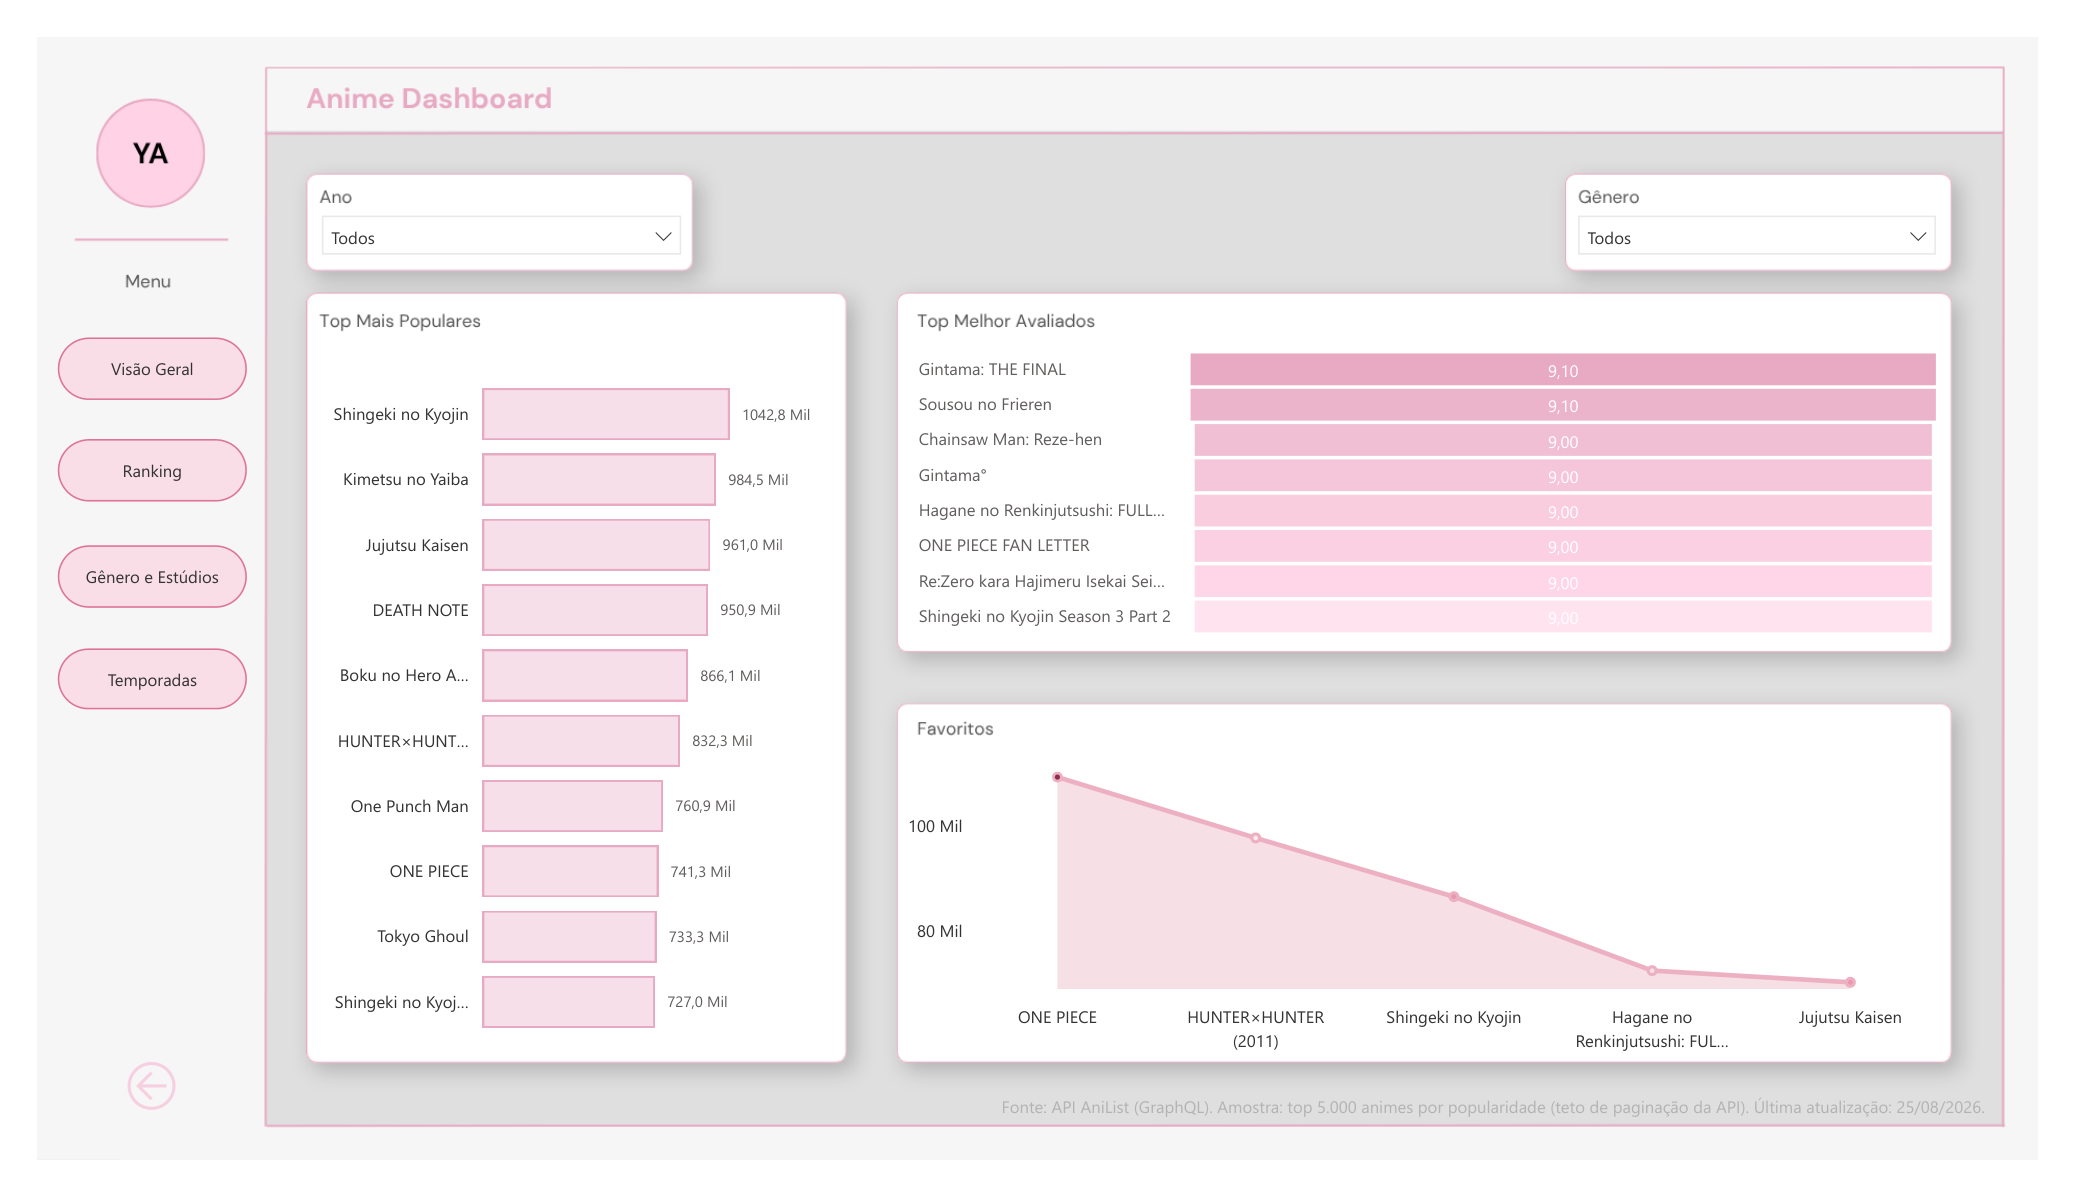

The dashboard page shown, as its layout file describes it:
{"tool":"powerbi","page":{"name":"Ranking","canvas":[1280,720],"ordinal":1},"visuals":[{"type":"slicer","title":"Ano","fields":{"Values":["dim_anime.ano_texto"]},"box":[171.9,103.7,249.9,34.8],"z":0},{"type":"slicer","fields":{"Values":["dim_genero.nome_genero_pt"]},"box":[975.8,103.7,249.2,45.9],"z":1000},{"type":"barChart","fields":{"Category":["dim_anime.titulo"],"Y":["Medidas.Total de Membros"]},"box":[172.2,194.5,344.4,461.7],"z":2000},{"type":"funnel","fields":{"Category":["dim_anime.titulo"],"Y":["Medidas.Nota Media Confiavel"]},"box":[558.7,194.5,666.5,193.2],"z":3000},{"type":"areaChart","fields":{"Category":["dim_anime.titulo"],"Y":["Medidas.Total de Favoritos"]},"box":[551.7,456,673.5,200.9],"z":4000},{"type":"shape","box":[12.8,192,121.2,39.5],"z":5000},{"type":"shape","box":[12.8,257,121.2,39.5],"z":6000},{"type":"shape","box":[12.8,325.3,121.2,39.5],"z":7000},{"type":"shape","box":[12.8,391,121.2,39.5],"z":8000},{"type":"textbox","box":[612.1,671.4,644.2,26.5],"z":9000},{"type":"actionButton","box":[51.9,648.6,42.1,44.5],"z":10000}]}

Visuals, with their boxes on the page's 1280x720 design canvas (x1, y1, x2, y2). These are canvas units, not pixel positions in the 2075x1200 screenshot, which may show the page scaled, cropped or inside an application window:
"Ano" slicer: left=172, top=104, right=422, bottom=138
slicer - dim_genero.nome_genero_pt: left=976, top=104, right=1225, bottom=150
barChart - dim_anime.titulo x Medidas.Total de Membros: left=172, top=194, right=517, bottom=656
funnel - dim_anime.titulo x Medidas.Nota Media Confiavel: left=559, top=194, right=1225, bottom=388
areaChart - dim_anime.titulo x Medidas.Total de Favoritos: left=552, top=456, right=1225, bottom=657
shape: left=13, top=192, right=134, bottom=232
shape: left=13, top=257, right=134, bottom=296
shape: left=13, top=325, right=134, bottom=365
shape: left=13, top=391, right=134, bottom=430
textbox: left=612, top=671, right=1256, bottom=698
actionButton: left=52, top=649, right=94, bottom=693
